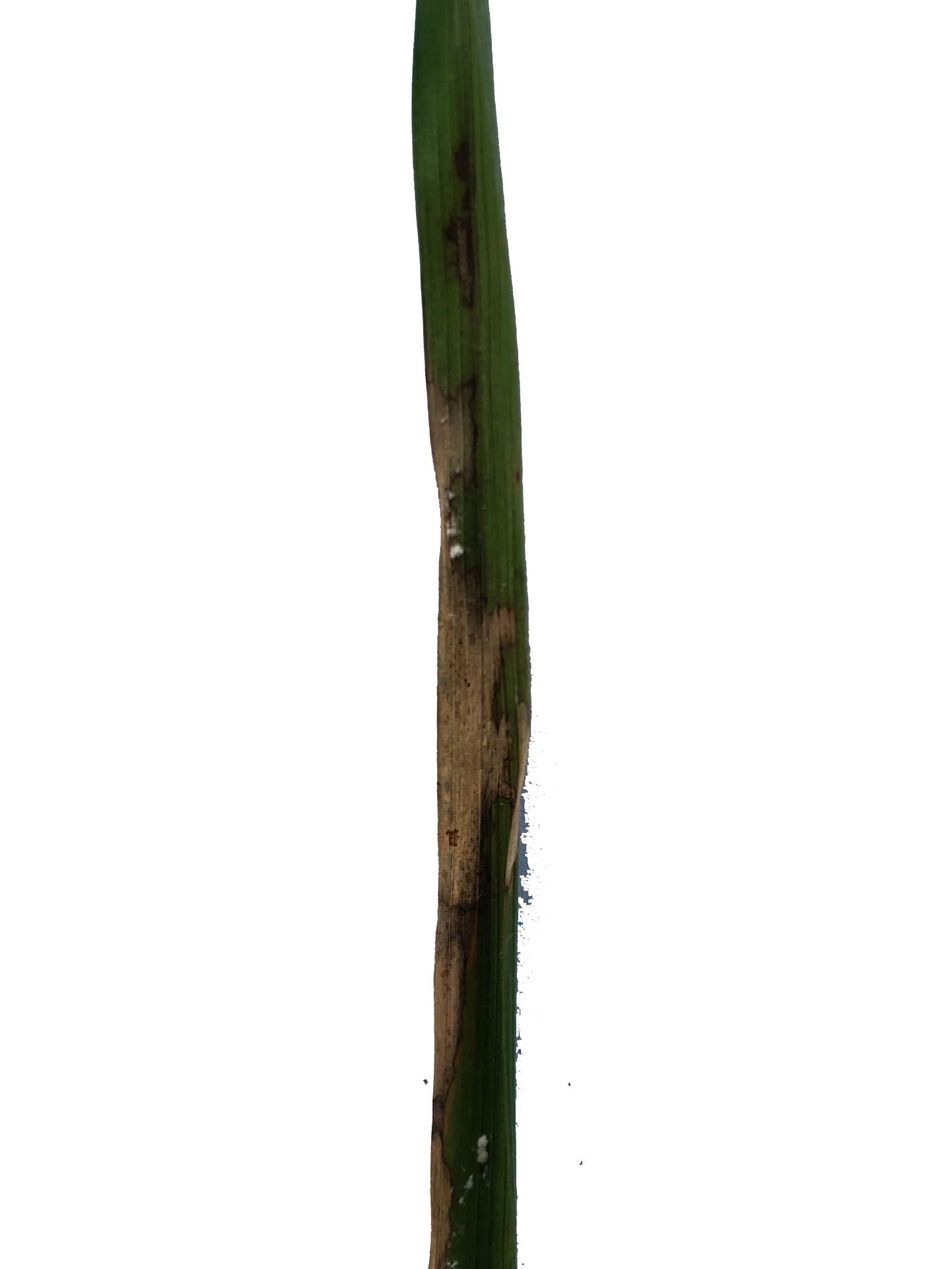Blight: (436, 535, 526, 849), (426, 364, 493, 499), (436, 882, 476, 1058)
